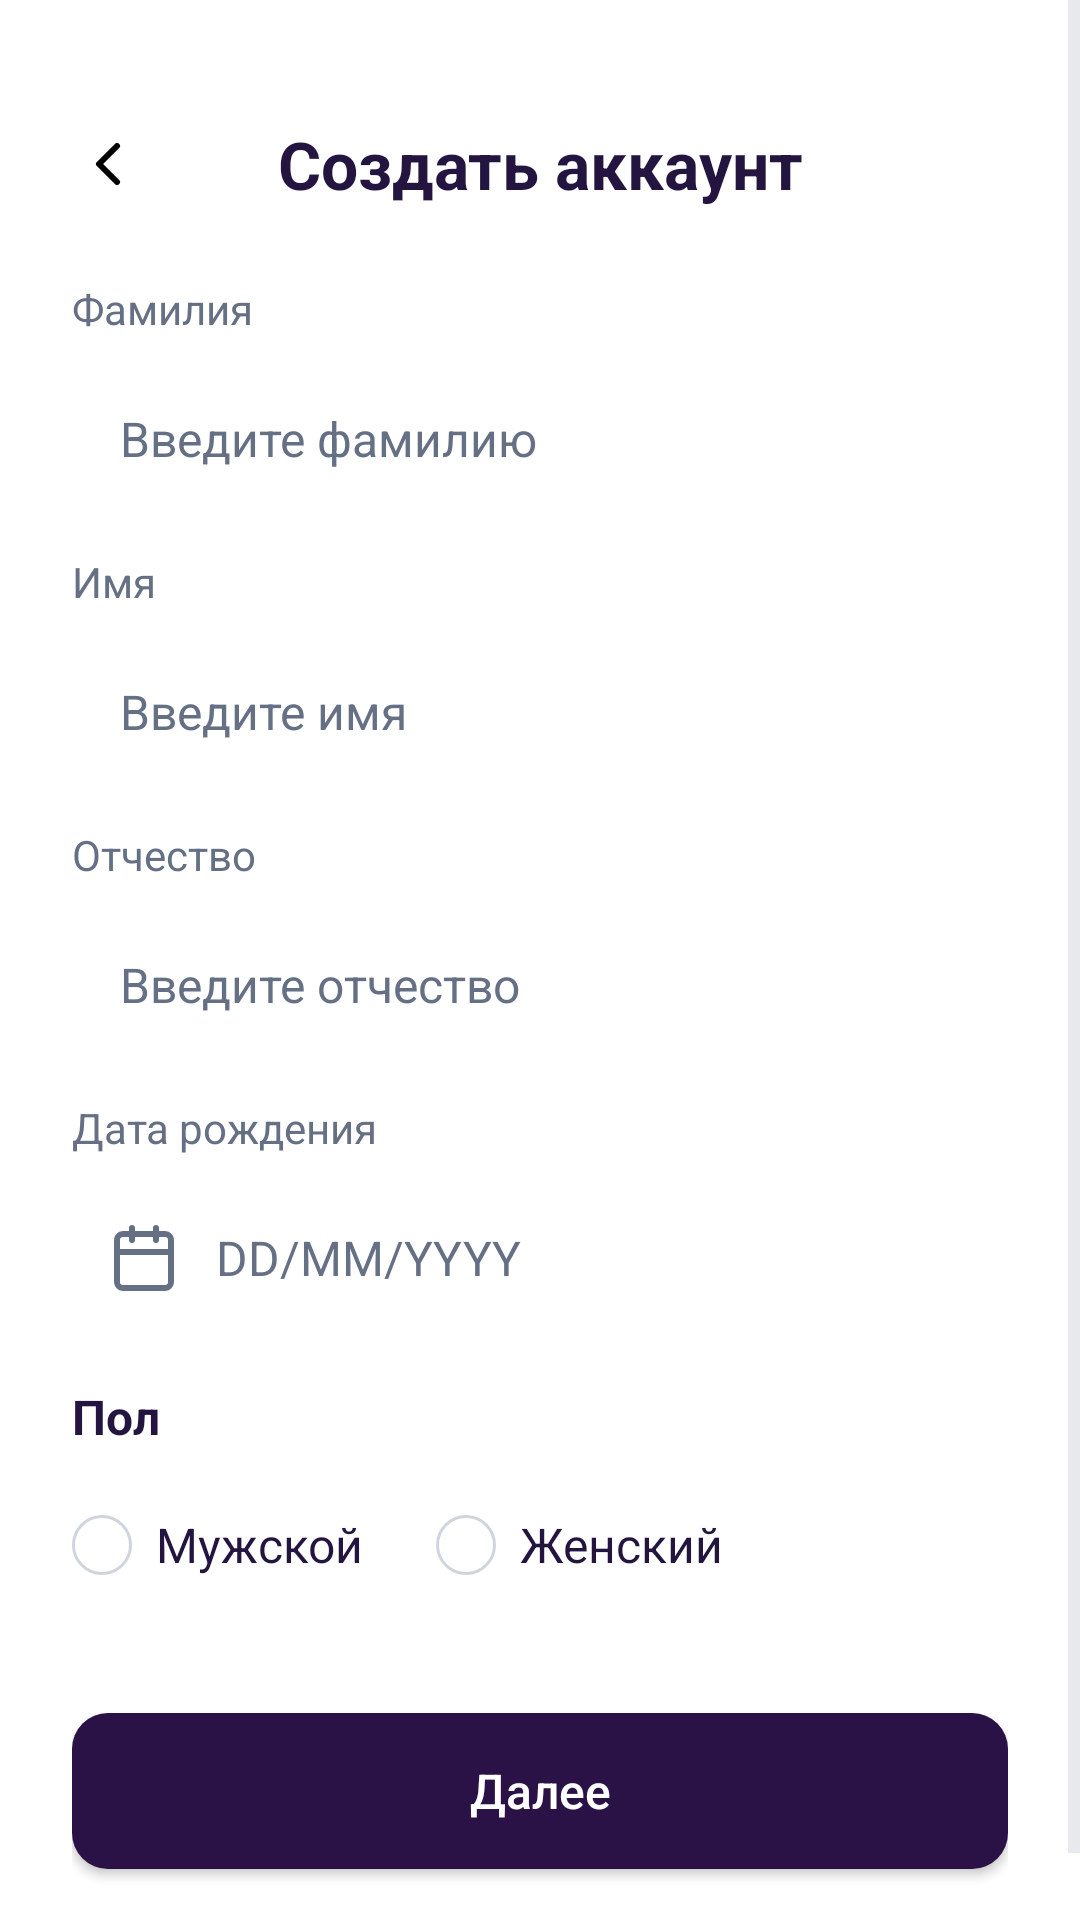

Icons on this 1080 × 1920 Android screen, each with its box as (x1,y1,x2,y2):
calendar: (114,1225,174,1291)
chevron left: (96,143,120,185)
